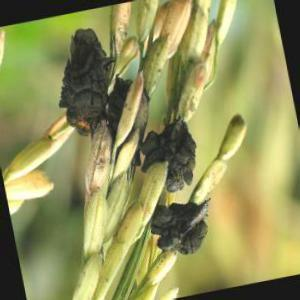Leaf_Scald: (66, 24, 116, 136), (144, 122, 196, 189), (153, 206, 207, 259)
